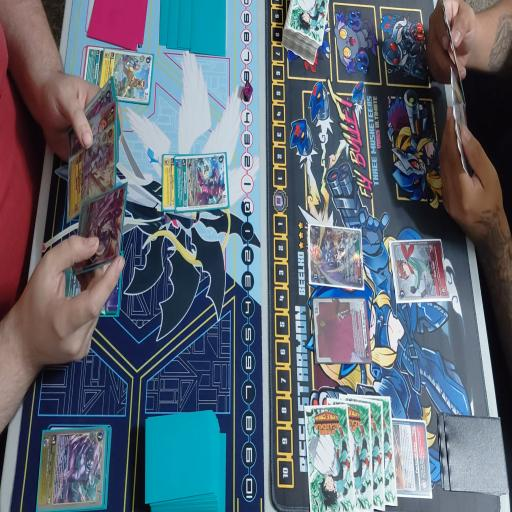card: (70, 178, 128, 280), (38, 428, 108, 512), (66, 126, 118, 220), (312, 300, 369, 370), (387, 419, 431, 501), (308, 227, 364, 290), (391, 239, 446, 303), (172, 154, 228, 214), (99, 53, 156, 105), (69, 98, 118, 154), (83, 76, 114, 124), (82, 46, 107, 96), (161, 149, 179, 214)
